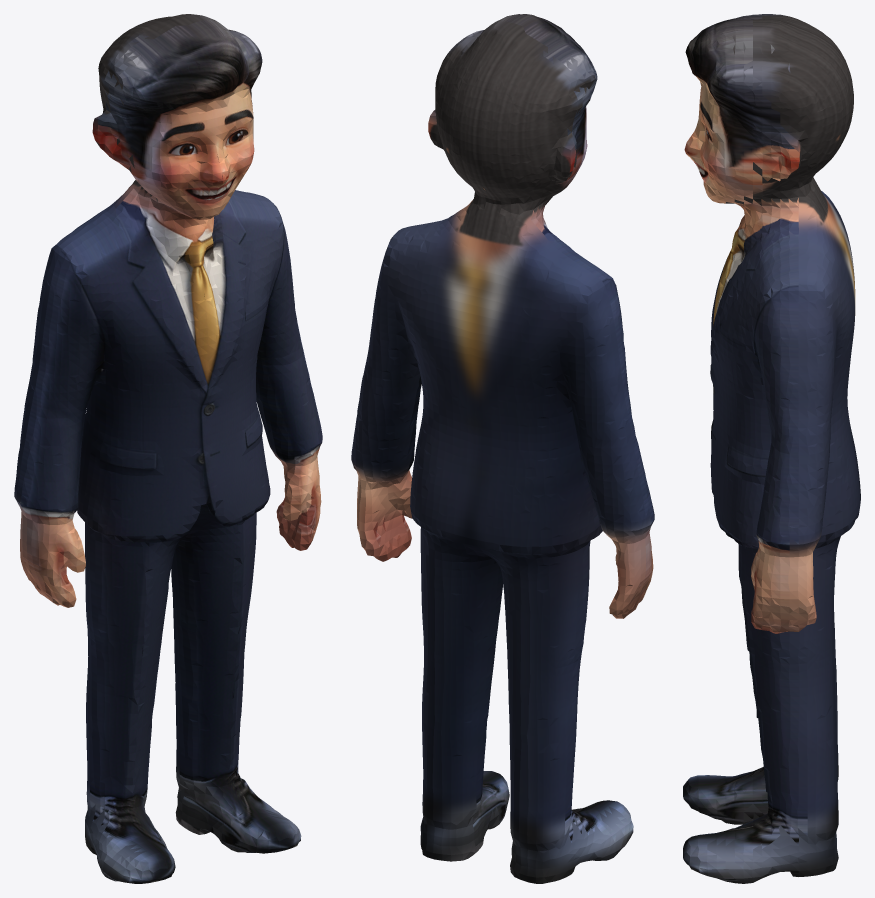
The model's file is wilson.glb.
3 renders of one model, left to right at view 1: azimuth 30°, elevation 25°; view 2: azimuth 150°, elevation 25°; view 3: azimuth 270°, elevation 25°, orthographic.
Visible parts, largest first — view 1: geometry_0; view 2: geometry_0; view 3: geometry_0.
Boxes of the visible parts, <box> form: geometry_0: <box>14,14,322,883</box>; geometry_0: <box>351,14,654,883</box>; geometry_0: <box>683,14,860,883</box>.
Size of the model in its own units: 0.3769 by 1 by 0.1957.
Materials: 1 (1 with a texture image).
